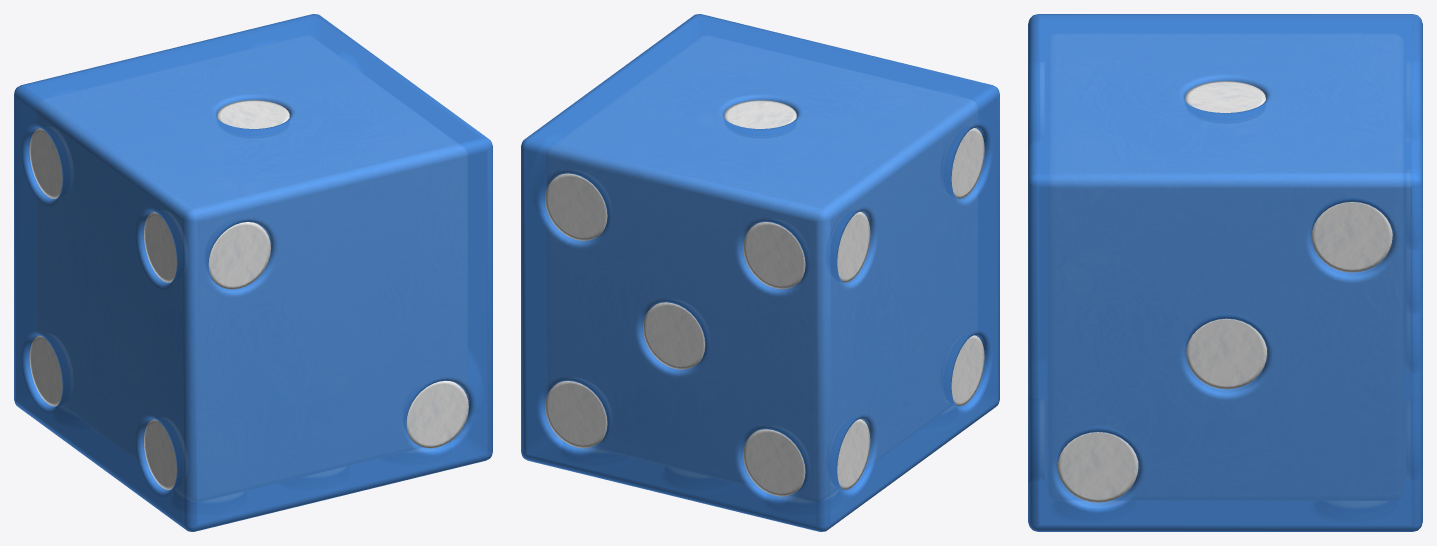
Rendered from dice3.fbx.
3 renders of one model, left to right at view 1: azimuth 30°, elevation 25°; view 2: azimuth 150°, elevation 25°; view 3: azimuth 270°, elevation 25°, orthographic. The views are drawn at different scales.
Visible parts, largest first — view 1: Cube.001, Cube.003; view 2: Cube.001, Cube.003; view 3: Cube.001, Cube.003.
Boxes of the visible parts, box(x1,y1,x2,y2) form: Cube.001: box(14, 14, 492, 531); Cube.003: box(29, 100, 468, 489); Cube.001: box(521, 14, 999, 531); Cube.003: box(545, 100, 984, 496); Cube.001: box(1028, 14, 1422, 531); Cube.003: box(1057, 81, 1392, 502).
Bounding box in the file's own units: 200 × 200 × 200.
